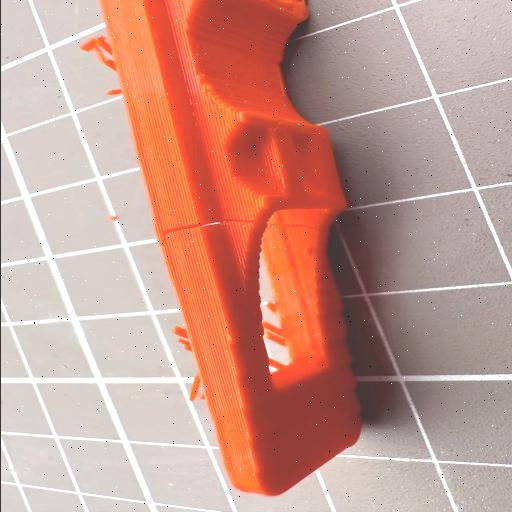cracks: (166, 214, 314, 234)
